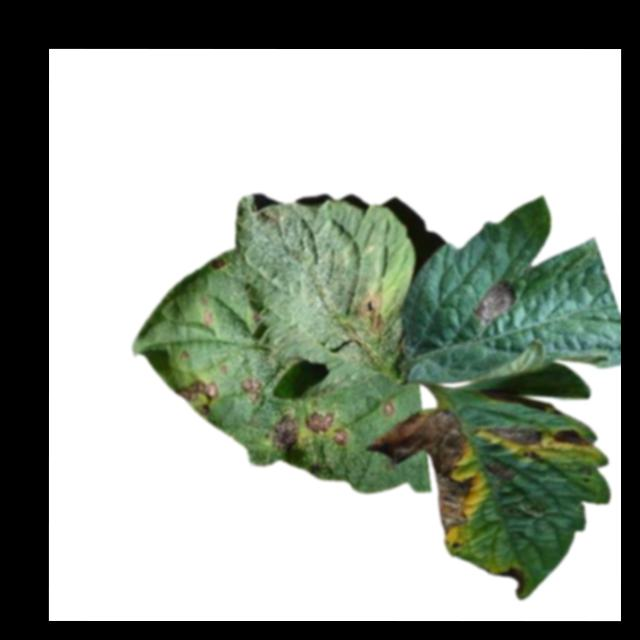Early_blight: (366, 410, 477, 538), (471, 283, 520, 327), (177, 377, 218, 418), (352, 288, 386, 335), (483, 428, 545, 447), (273, 414, 300, 451), (486, 460, 517, 485), (306, 409, 338, 433), (497, 570, 526, 595), (553, 428, 587, 447), (242, 376, 262, 405), (334, 427, 352, 446), (382, 402, 395, 419), (213, 255, 225, 272)
